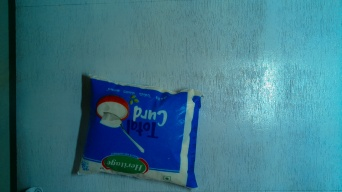m: (76, 72, 205, 188)
